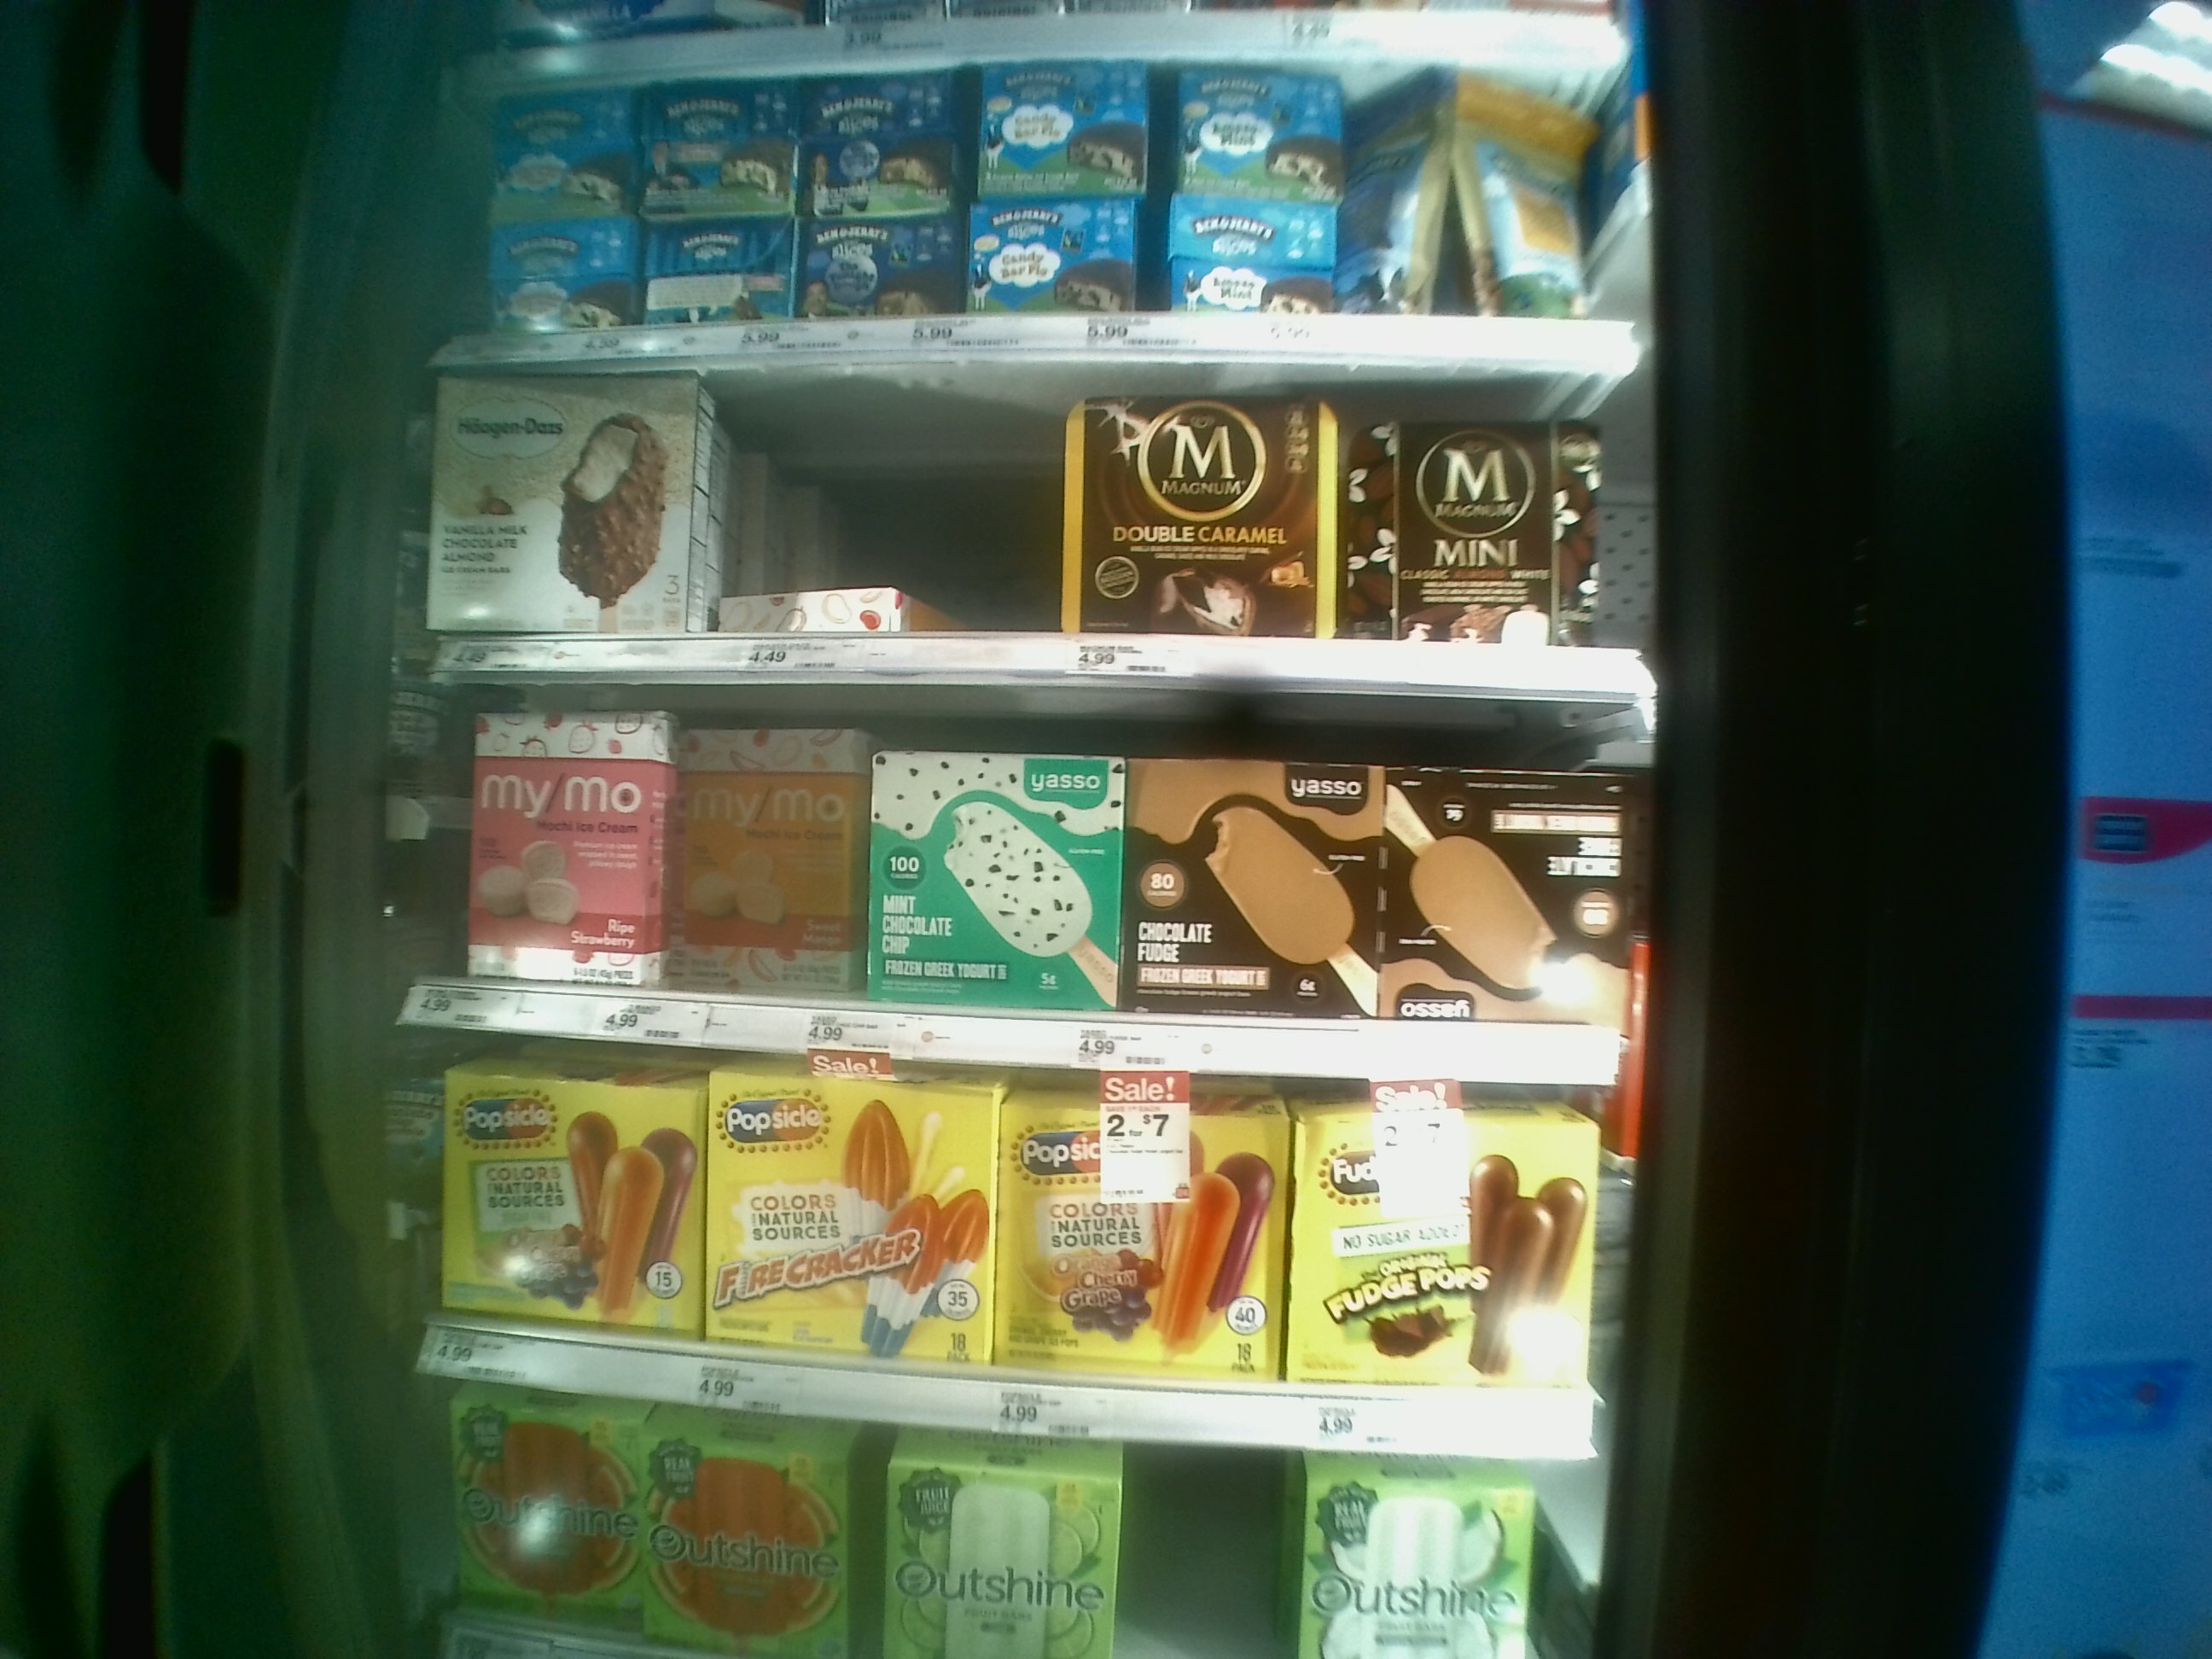ice-cream-shelf: (404, 683, 1618, 1058), (411, 369, 1649, 683), (460, 94, 1649, 362)
